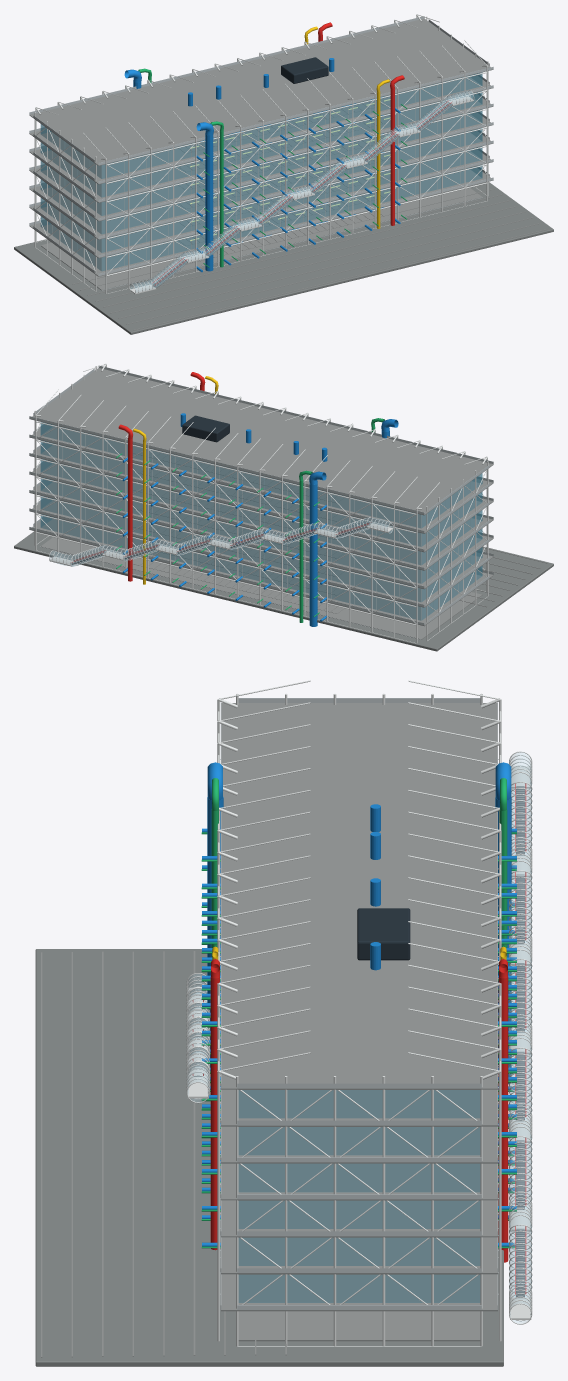
Rendered from centre_pompidou.optimized.glb.
3 views of the same model, one above another, from view 1: azimuth 30°, elevation 25°; view 2: azimuth 150°, elevation 25°; view 3: azimuth 270°, elevation 25° (orthographic). The views are drawn at different scales.
Visible parts, largest first — view 1: Pompidou_Plaza, Web_Facade_Glass_Web, Escalator_Left_Facade_Up_Continuous_Glass_Tube, Blue_Air_Duct_Roof_Bend, Web_Interior_Light; view 2: Pompidou_Plaza, Web_Facade_Glass_Web, Escalator_Left_Facade_Up_Continuous_Glass_Tube, Blue_Air_Duct_Roof_Bend; view 3: Pompidou_Plaza, Web_Facade_Glass_Web, Escalator_Left_Facade_Up_Continuous_Glass_Tube, Blue_Air_Duct_Roof_Bend.
Boxes of the visible parts, x1,y1,x2,y2 form: Pompidou_Plaza: [14, 14, 553, 334]; Web_Facade_Glass_Web: [40, 72, 482, 287]; Escalator_Left_Facade_Up_Continuous_Glass_Tube: [130, 91, 473, 292]; Blue_Air_Duct_Roof_Bend: [124, 22, 404, 135]; Web_Interior_Light: [190, 99, 390, 240]; Pompidou_Plaza: [14, 363, 553, 651]; Web_Facade_Glass_Web: [40, 422, 482, 620]; Escalator_Left_Facade_Up_Continuous_Glass_Tube: [49, 517, 392, 566]; Blue_Air_Duct_Roof_Bend: [118, 372, 398, 484]; Pompidou_Plaza: [35, 680, 532, 1366]; Web_Facade_Glass_Web: [239, 853, 515, 1302]; Escalator_Left_Facade_Up_Continuous_Glass_Tube: [187, 752, 531, 1323]; Blue_Air_Duct_Roof_Bend: [207, 762, 511, 978].
Bounding box in the file's own units: 240 × 83.94 × 122.
5 materials, 5 textured.
